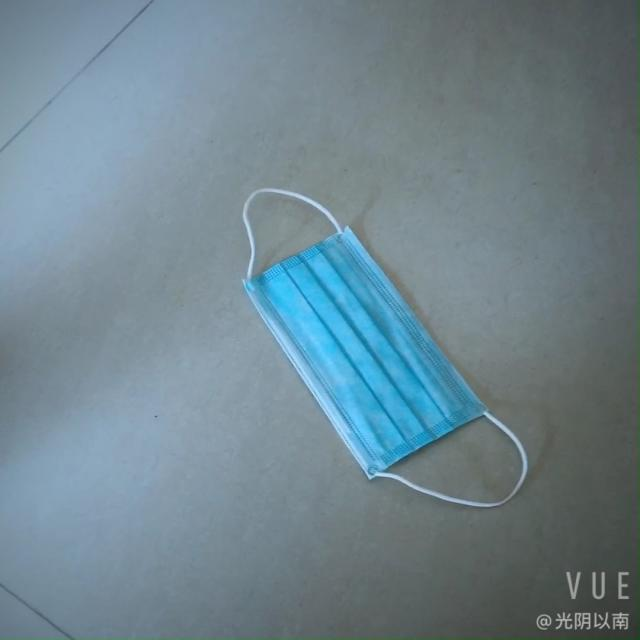face mask: (228, 207, 472, 485)
